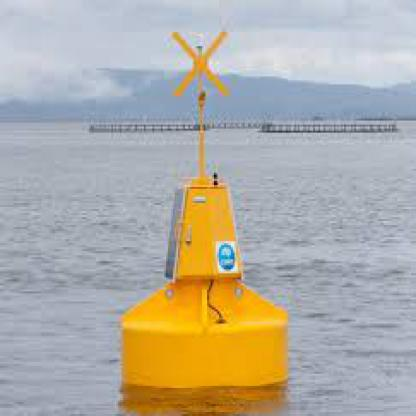buoy: (106, 26, 298, 392)
